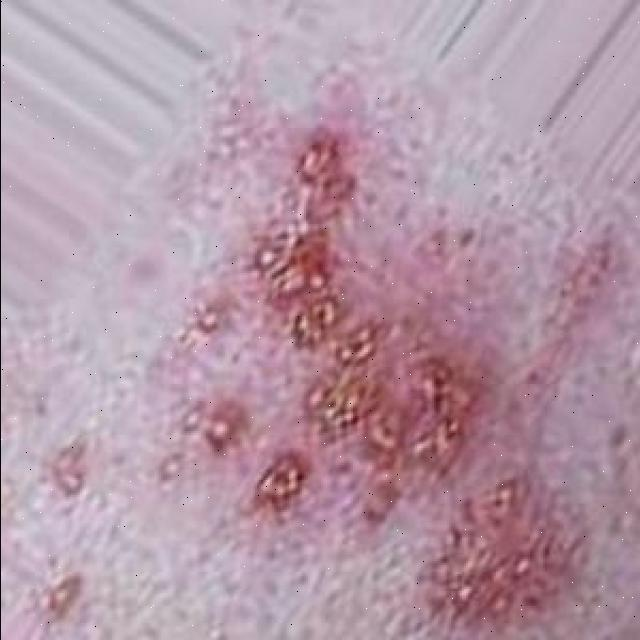Shingles: (182, 129, 481, 518), (419, 467, 576, 638)
